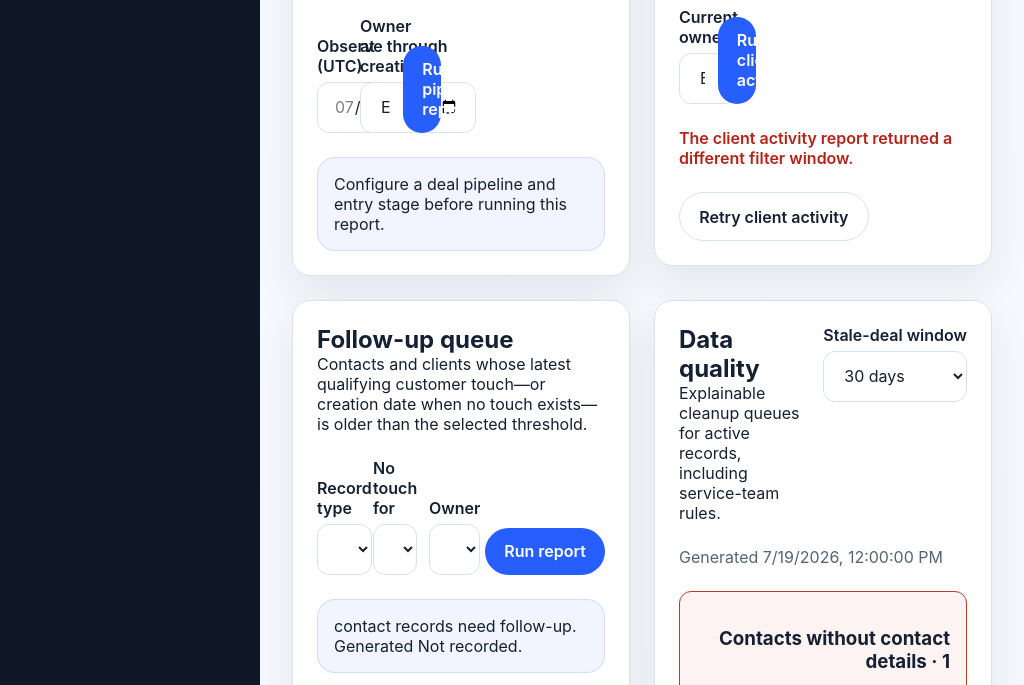
Test case: data quality reports › shows explainable actionable issues and reruns the stale threshold
(page scrolled)
Check: the heading "Contacts without contact details · 1" is shown, box [696,627,950,673]
Check: the text "contact records need follow-up. Generated Not recorded." is shown, box [317,599,605,673]
Select "60 days" in the dropdown labelled "Stale-deal window" at (895, 376), box [823,350,967,402]
(page scrolled)
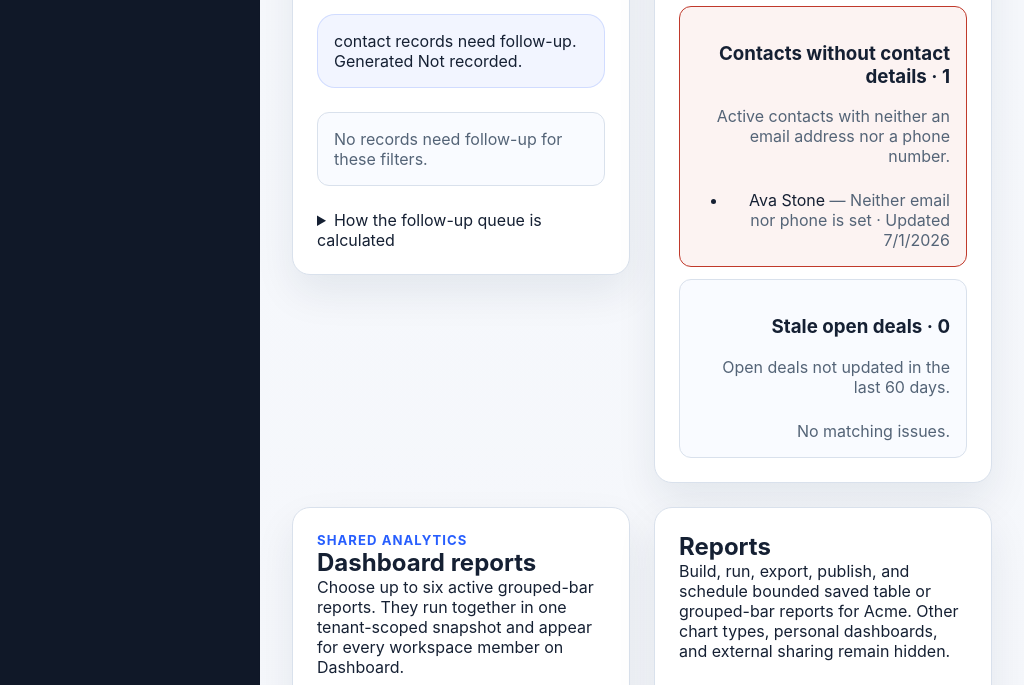
Check: the text "Open deals not updated in the last 60 days." is shown, box [696,357,950,397]
